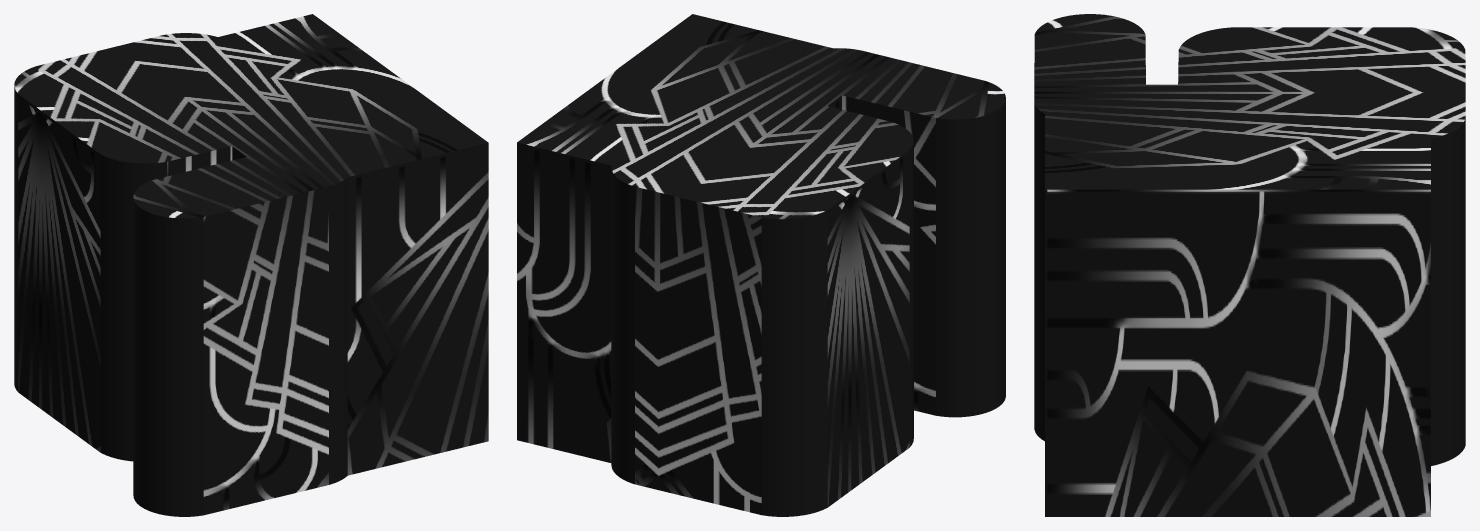
File: Maison1.glb
3 views of the same model, side by side, from view 1: azimuth 30°, elevation 25°; view 2: azimuth 150°, elevation 25°; view 3: azimuth 270°, elevation 25° (orthographic). The views are drawn at different scales.
Parts seen in each view (by area): view 1: BAT1; view 2: BAT1; view 3: BAT1.
Part boxes in pixels (x1,y1,x2,y2): BAT1: (14,14,488,516); BAT1: (517,14,1005,516); BAT1: (1034,14,1465,516).
Bounding box in the file's own units: 0.4191 × 0.3645 × 0.4353.
2 materials, 1 textured.
